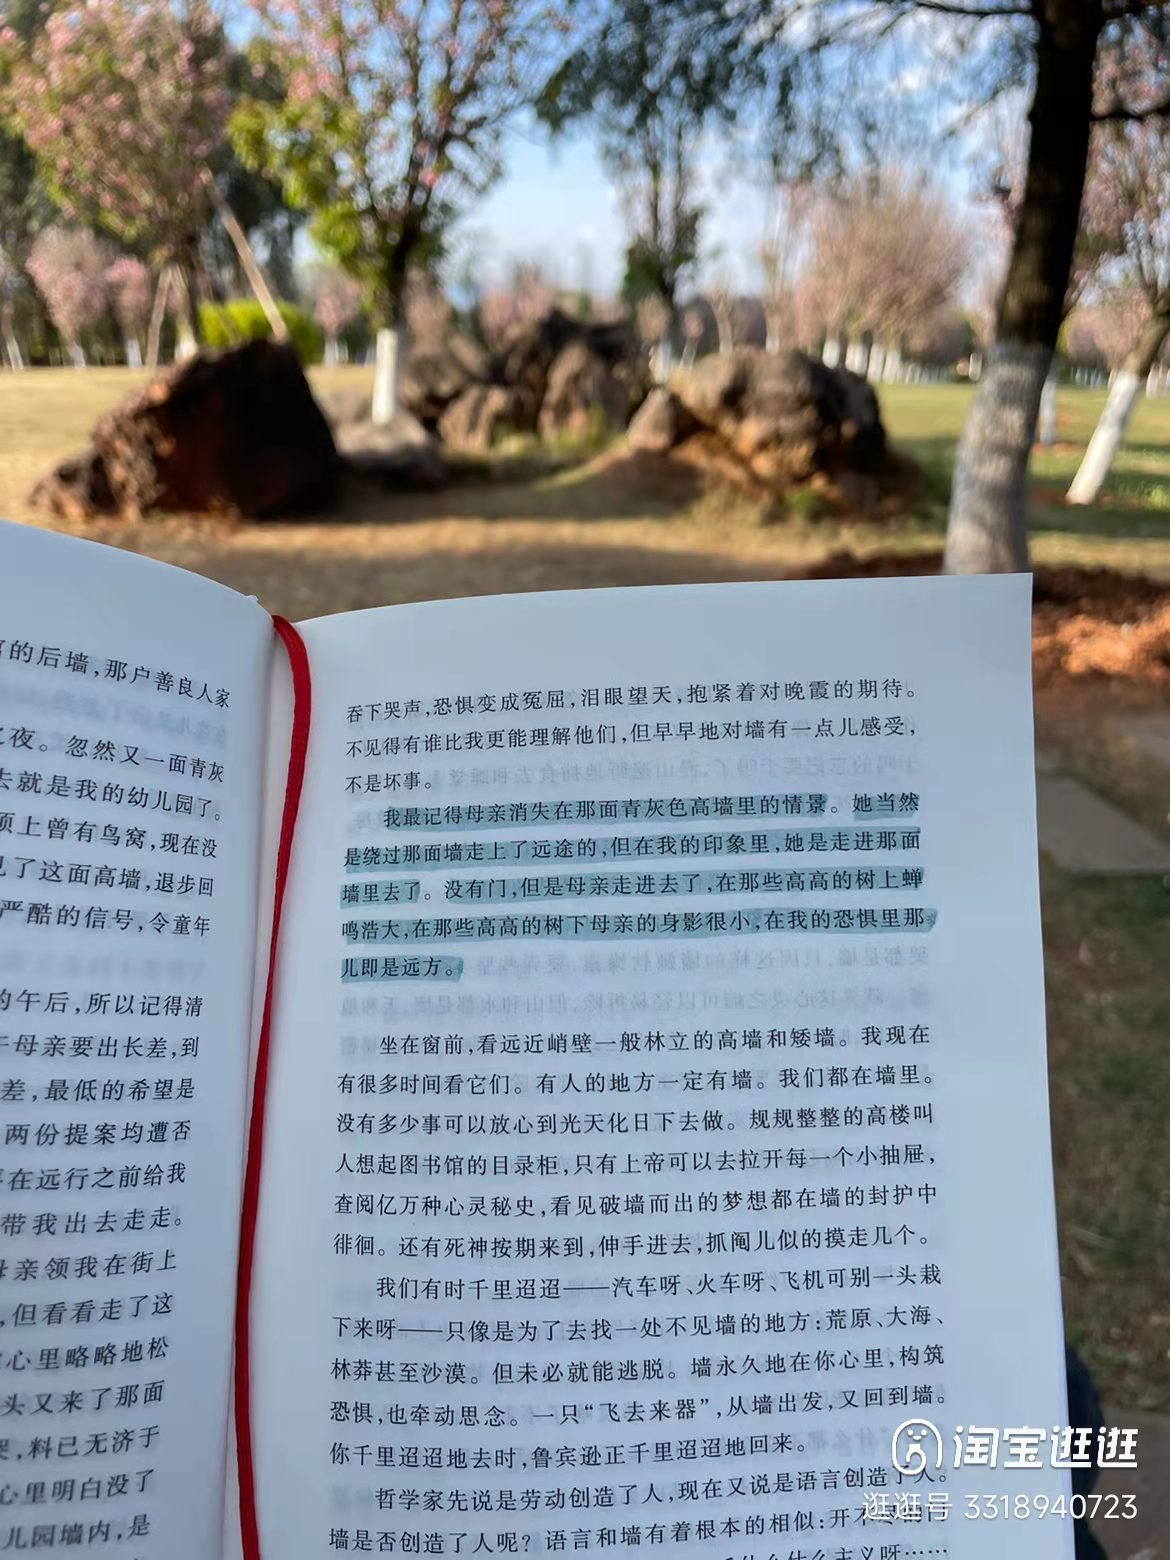book: (6, 485, 1090, 1560)
